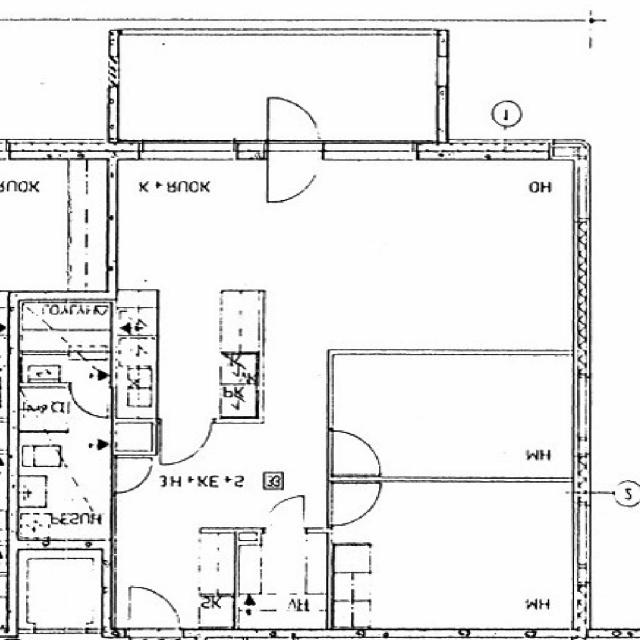door: (268, 140, 323, 208), (268, 92, 323, 160), (129, 586, 180, 638), (160, 418, 212, 467), (327, 431, 383, 475), (327, 483, 382, 526), (111, 458, 158, 492), (266, 493, 304, 532), (70, 382, 109, 420), (129, 629, 180, 640)
